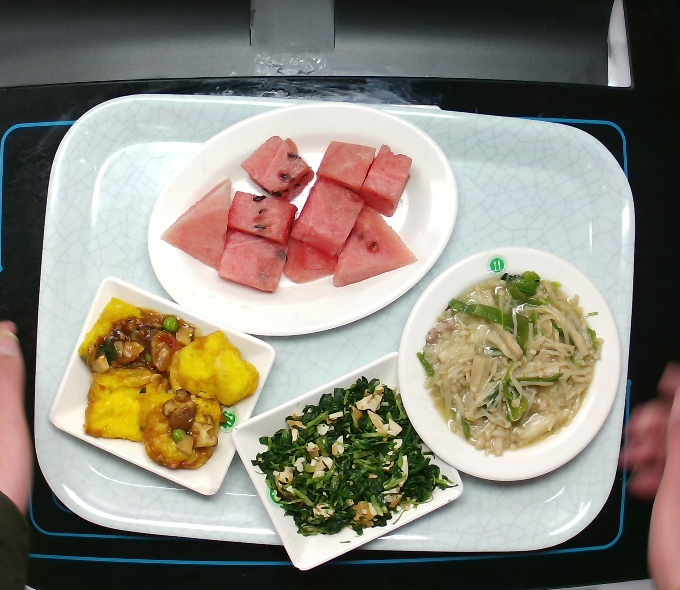wcq-CuiPiDouFu: (73, 292, 263, 475)
wcq-JinZhenGu: (409, 262, 611, 464)
wcq-MaLanTouChaoDouGan: (248, 371, 461, 547)
wcq-XiGua: (153, 128, 426, 297)
